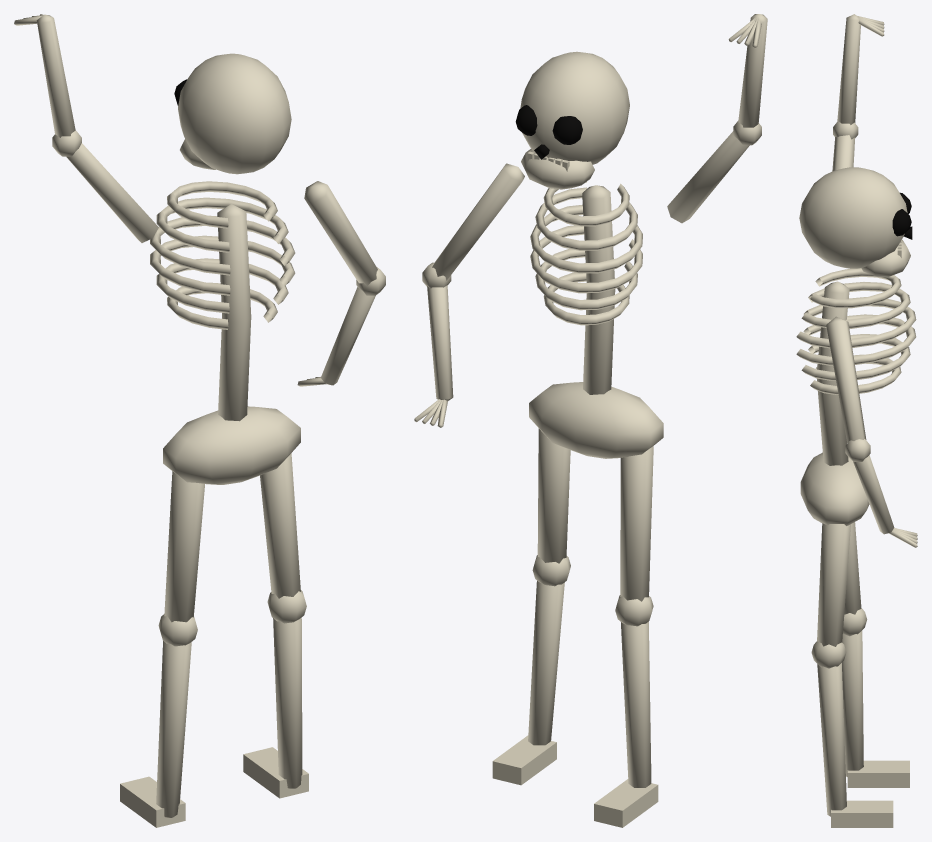
The model's file is skeleton_hang_bare.glb.
The picture shows the model from 3 angles, left to right: view 1: azimuth 30°, elevation 25°; view 2: azimuth 150°, elevation 25°; view 3: azimuth 270°, elevation 25°; orthographic projection. The views are drawn at different scales.
Visible parts, largest first — view 1: Bones; view 2: Bones; view 3: Bones.
Boxes of the visible parts, x1,y1,x2,y2 form: Bones: (14,14,385,827); Bones: (414,14,767,827); Bones: (796,14,917,827).
Size of the model in its own units: 0.8419 by 1.9 by 0.2919.
